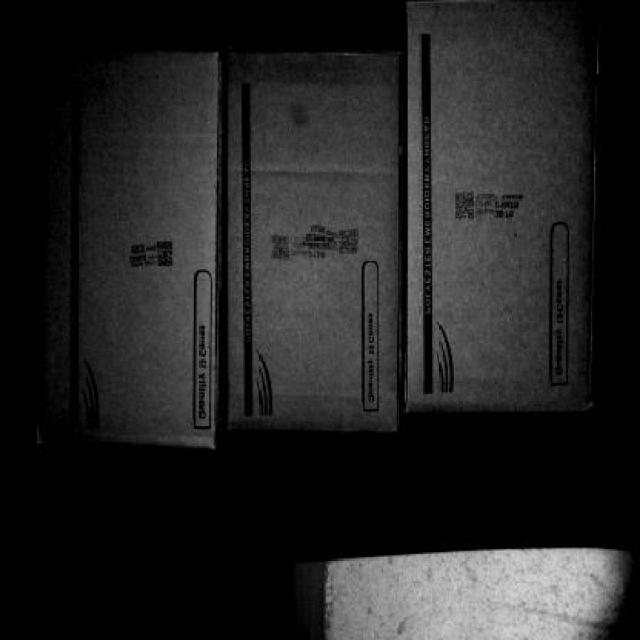cardboxes: (407, 0, 599, 412), (35, 56, 216, 442), (227, 58, 399, 430)
